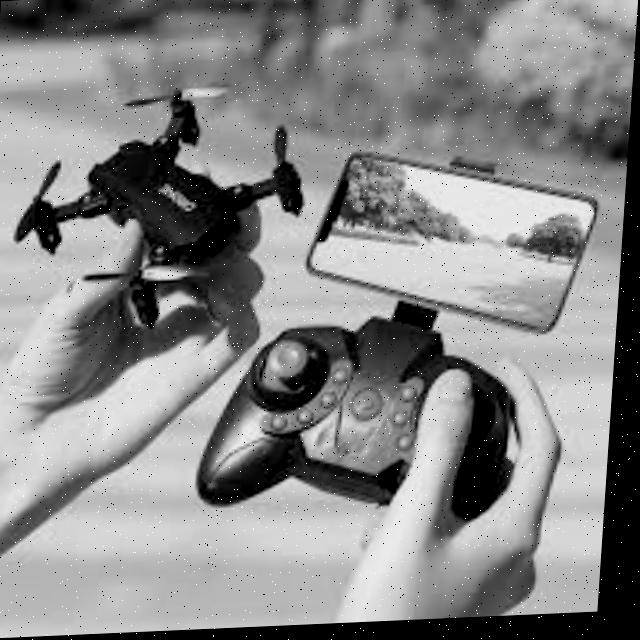drone: (13, 71, 337, 332)
